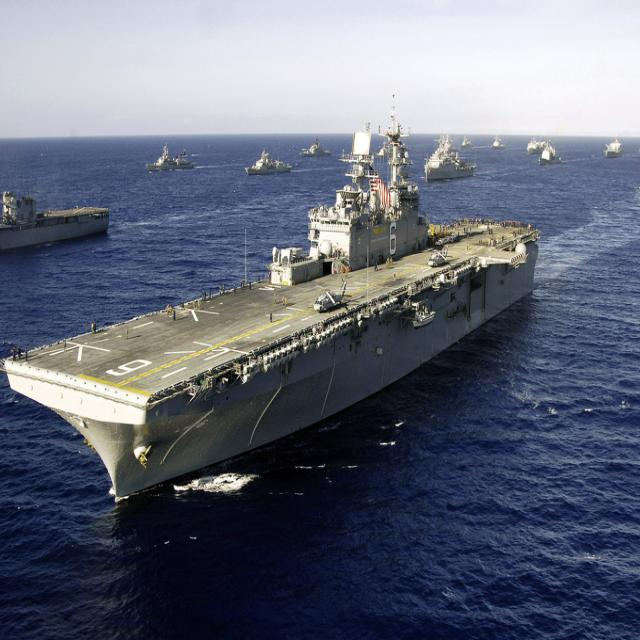navalvessels: (0, 117, 575, 495), (0, 172, 119, 246), (414, 140, 486, 181), (129, 135, 196, 177), (234, 142, 292, 182), (527, 133, 563, 166), (286, 142, 330, 161), (488, 129, 511, 164), (600, 136, 622, 170)
